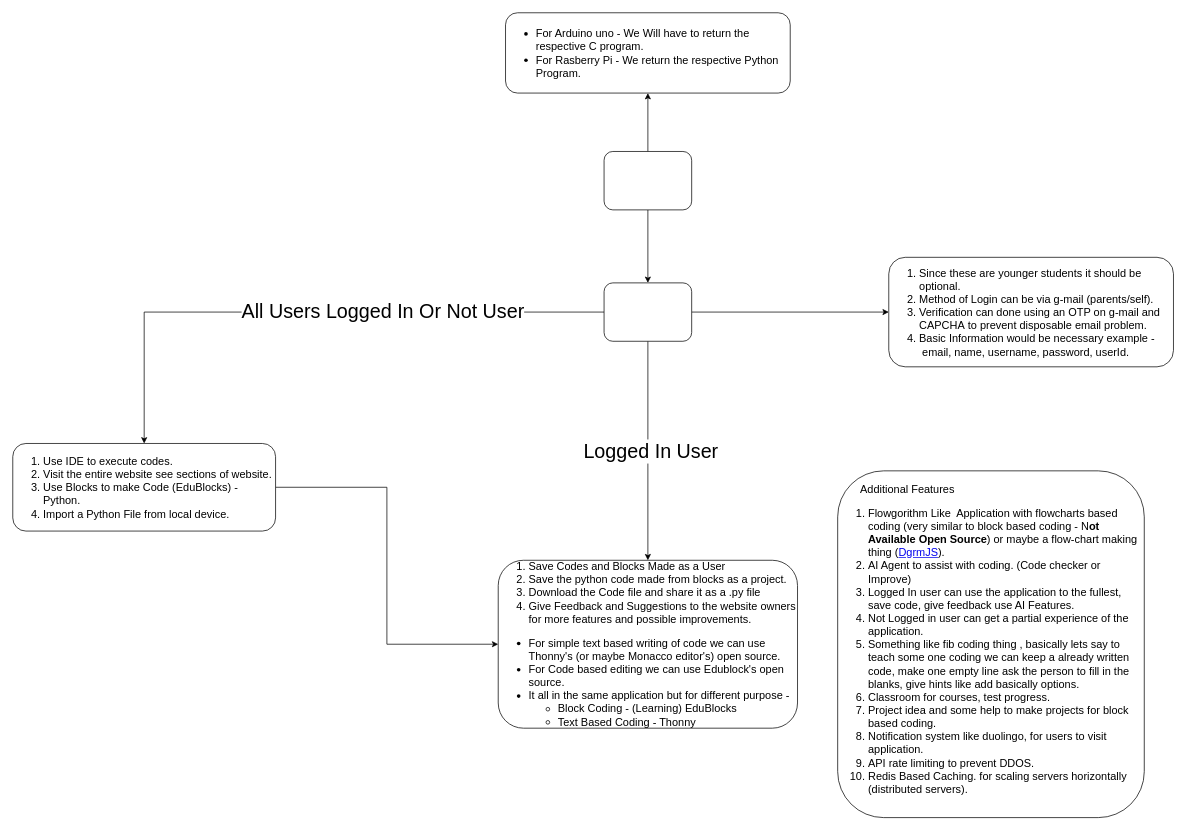
Some shapes in this 1186 by 831 pixel diagram are drawn without their labels. Here are the shapes that lost their labels. From the top down, the centre of each, then its label:
At point (647, 180): "Coding Junior".
At point (647, 311): "Login System".
